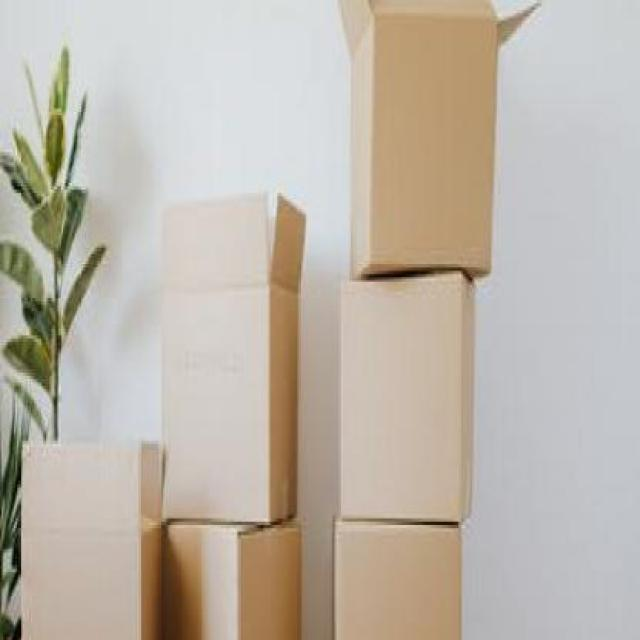box: (160, 196, 309, 527), (338, 0, 500, 279), (335, 268, 479, 532), (15, 426, 158, 640), (328, 509, 470, 640), (163, 521, 314, 640)
